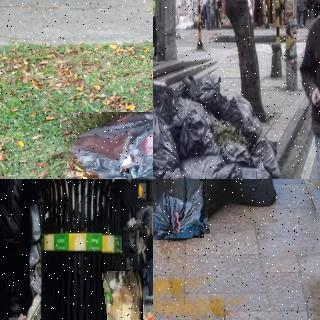Garbage: (64, 107, 153, 179), (153, 179, 207, 239), (183, 149, 267, 179), (170, 107, 219, 156), (104, 270, 145, 320), (221, 95, 261, 143), (214, 179, 280, 208), (153, 110, 179, 175)
